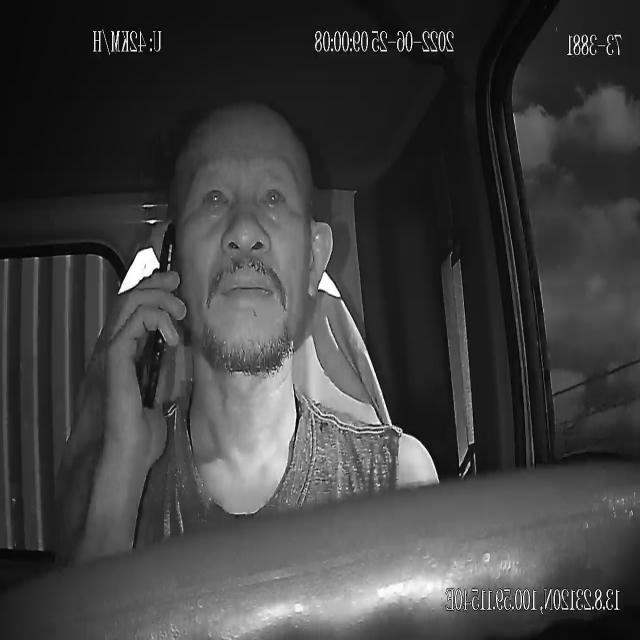phone: (144, 221, 176, 408)
